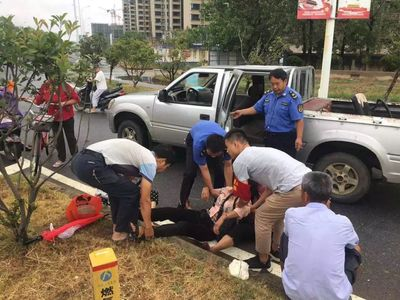fall: (127, 170, 266, 253)
